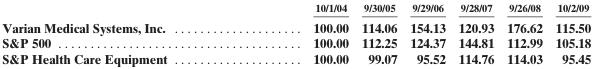table: (1, 1, 590, 65)
table column: (1, 1, 239, 65), (239, 1, 354, 65), (402, 1, 451, 65), (499, 1, 548, 65), (354, 1, 402, 65), (451, 1, 499, 65), (548, 1, 590, 65)
table column header: (1, 1, 590, 16)
table row: (1, 16, 590, 34), (1, 34, 590, 50), (1, 1, 590, 16), (1, 50, 590, 65)
